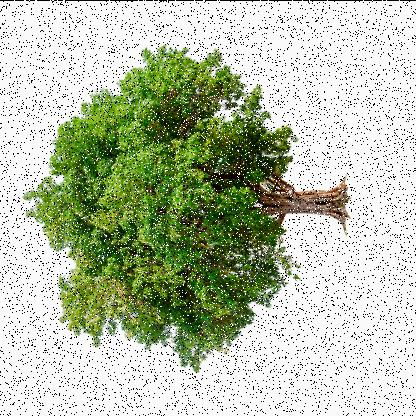Tree: (20, 43, 348, 371)
